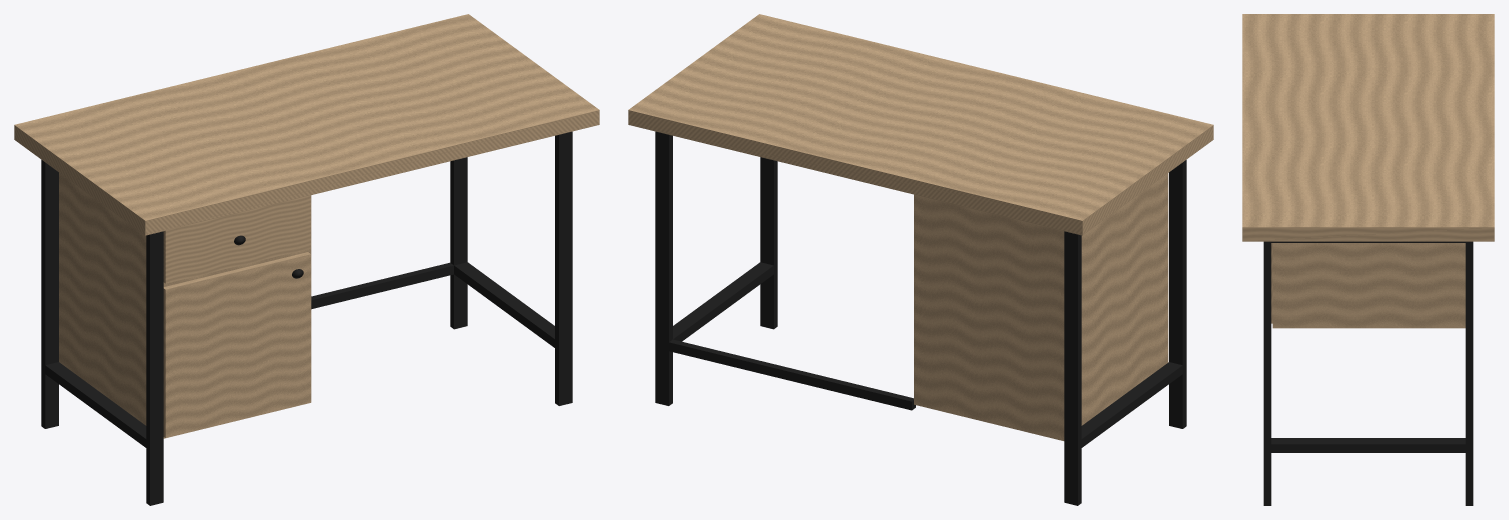
3 renders of one model, left to right at view 1: azimuth 30°, elevation 25°; view 2: azimuth 150°, elevation 25°; view 3: azimuth 270°, elevation 25°, orthographic. The views are drawn at different scales.
Parts seen in each view (by area): view 1: 1 desktop, 15 cabinet_door, 13 cabinet_body, 14 drawer_front, 2 left_front_leg, 4 right_front_leg, 3 left_back_leg, 5 right_back_leg, 10 left_lower_stretcher, 11 right_lower_stretcher, 12 back_lower_stretcher; view 2: 1 desktop, 13 cabinet_body, 3 left_back_leg, 5 right_back_leg, 2 left_front_leg, 12 back_lower_stretcher, 4 right_front_leg, 10 left_lower_stretcher, 11 right_lower_stretcher; view 3: 1 desktop, 13 cabinet_body, 11 right_lower_stretcher, 4 right_front_leg, 5 right_back_leg, 9 right_top_rail.
Boxes of the visible parts, x1=… form: 1 desktop: x1=14, y1=14, x2=599, y2=235; 15 cabinet_door: x1=163, y1=252, x2=310, y2=438; 13 cabinet_body: x1=59, y1=173, x2=311, y2=438; 14 drawer_front: x1=163, y1=195, x2=310, y2=283; 2 left_front_leg: x1=146, y1=231, x2=163, y2=505; 4 right_front_leg: x1=555, y1=131, x2=572, y2=405; 3 left_back_leg: x1=41, y1=160, x2=58, y2=428; 5 right_back_leg: x1=450, y1=157, x2=467, y2=329; 10 left_lower_stretcher: x1=45, y1=362, x2=148, y2=449; 11 right_lower_stretcher: x1=454, y1=262, x2=556, y2=349; 12 back_lower_stretcher: x1=311, y1=262, x2=453, y2=309; 1 desktop: x1=628, y1=14, x2=1213, y2=235; 13 cabinet_body: x1=914, y1=173, x2=1168, y2=440; 3 left_back_leg: x1=1064, y1=231, x2=1081, y2=505; 5 right_back_leg: x1=655, y1=131, x2=672, y2=405; 2 left_front_leg: x1=1169, y1=160, x2=1186, y2=428; 12 back_lower_stretcher: x1=665, y1=339, x2=915, y2=410; 4 right_front_leg: x1=760, y1=157, x2=777, y2=329; 10 left_lower_stretcher: x1=1079, y1=362, x2=1184, y2=449; 11 right_lower_stretcher: x1=673, y1=262, x2=773, y2=341; 1 desktop: x1=1242, y1=14, x2=1494, y2=241; 13 cabinet_body: x1=1272, y1=243, x2=1465, y2=328; 11 right_lower_stretcher: x1=1269, y1=438, x2=1468, y2=452; 4 right_front_leg: x1=1263, y1=241, x2=1271, y2=505; 5 right_back_leg: x1=1465, y1=241, x2=1473, y2=505; 9 right_top_rail: x1=1268, y1=241, x2=1466, y2=242.
Bounding box in the file's own units: 1.6 × 1 × 0.8.
3 materials, 1 textured.
